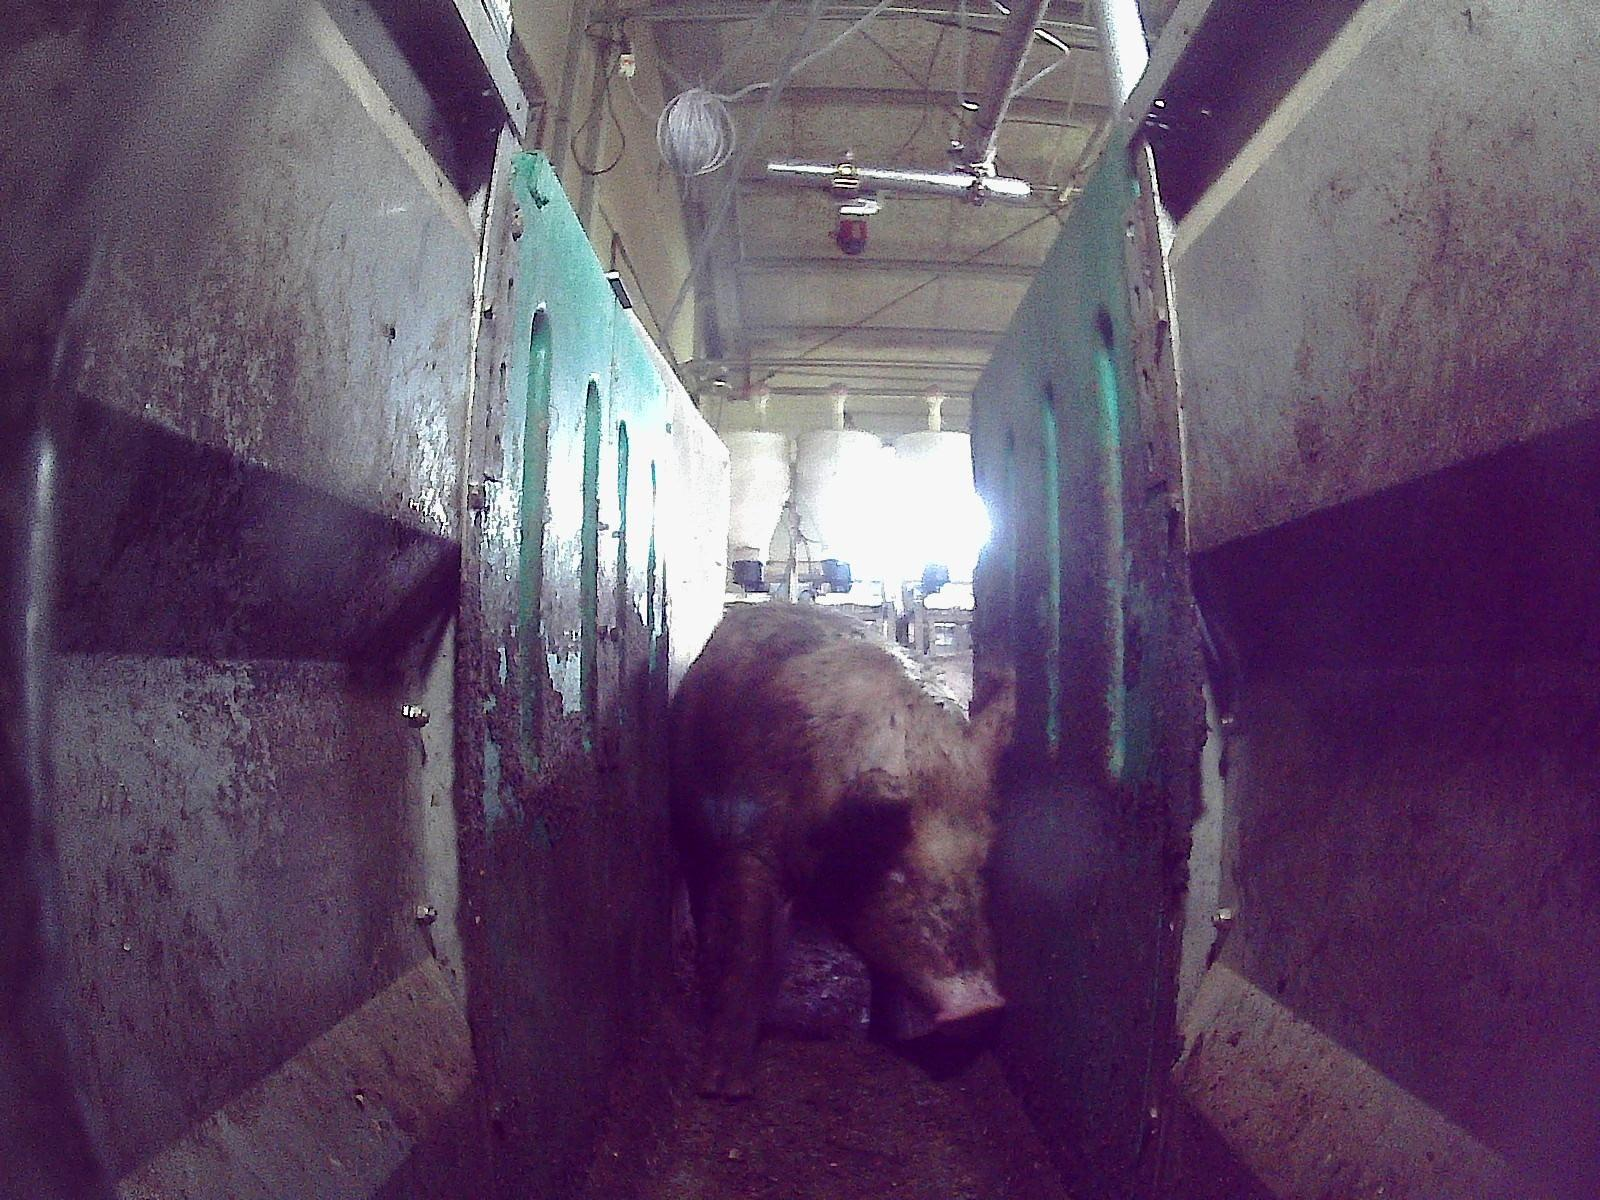Face: (810, 772, 1009, 1032)
